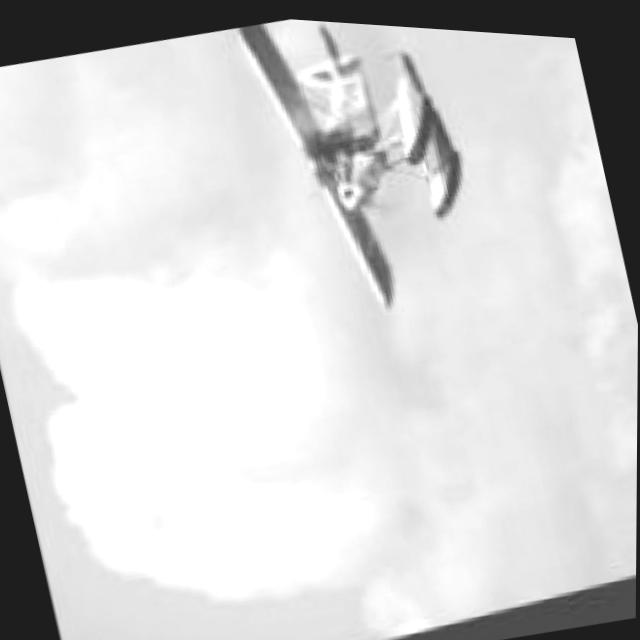aeroplane: (221, 12, 501, 346)
